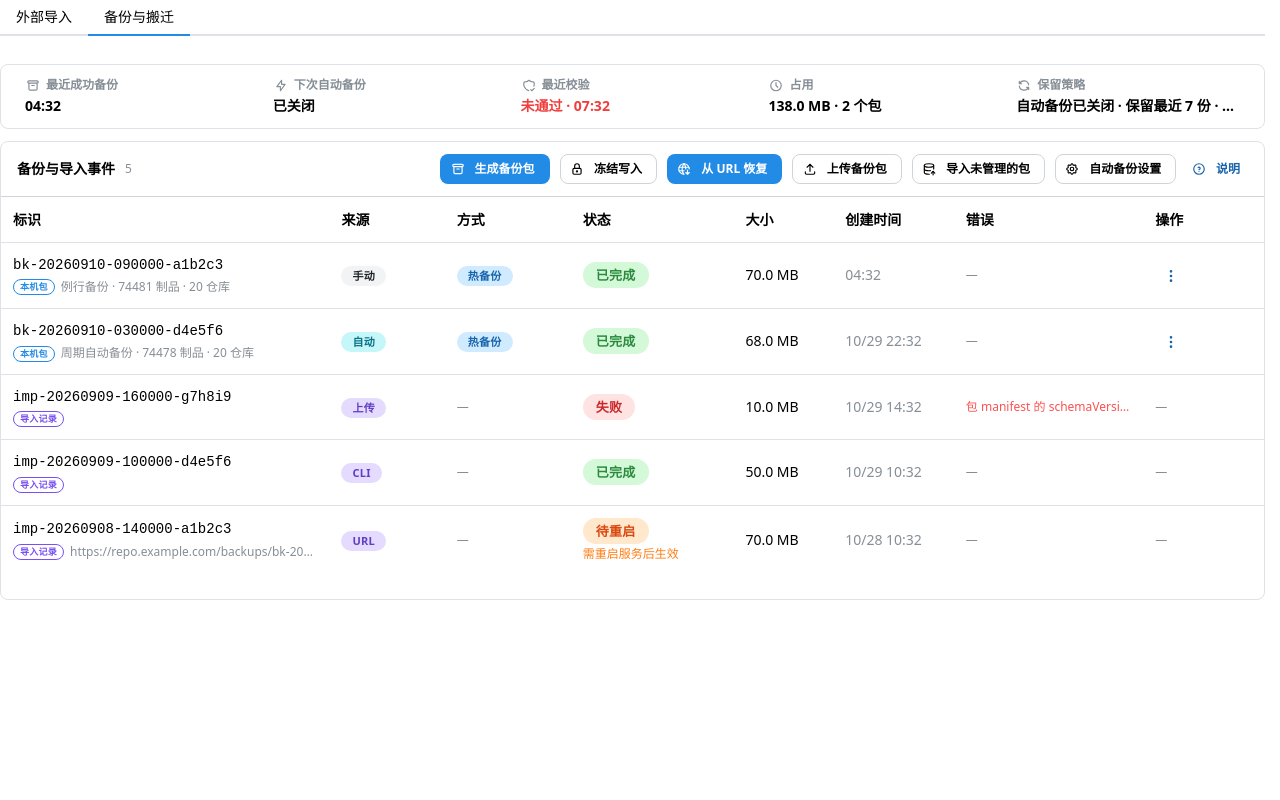
Test case: 备份与搬迁 › 配置弹窗内可编辑三项配置，保存后提交到 settings 通道
Click the button "自动备份设置" at (1116, 169), box x1=1055 y1=154 x2=1176 y2=184
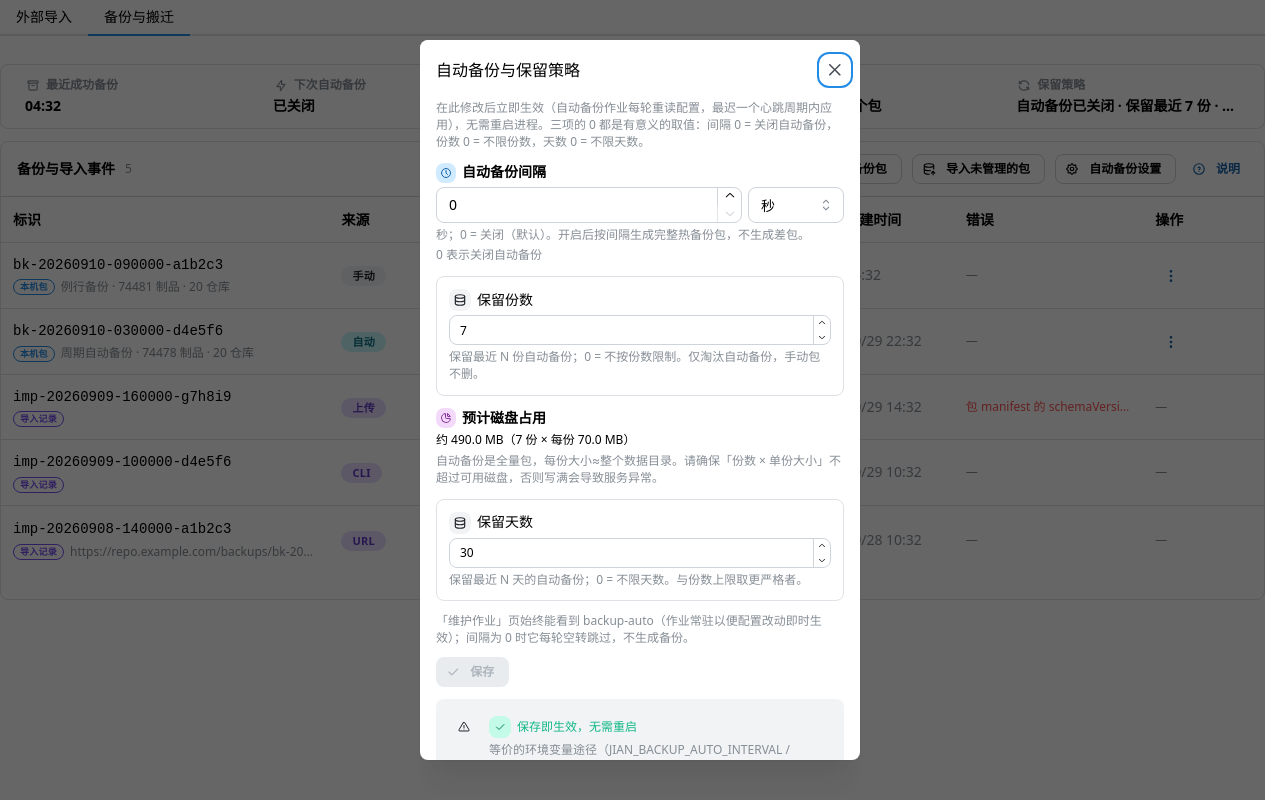
Expected: the field with test id "auto-interval" holds "0"
Expected: the field with test id "keep-last" holds "7", x1=449 y1=315 x2=831 y2=345
Expected: the field with test id "retention-days" holds "30", x1=449 y1=538 x2=831 y2=568
Replace the text in the field with test id "auto-interval" with "60" at (589, 205), box x1=436 y1=187 x2=742 y2=223
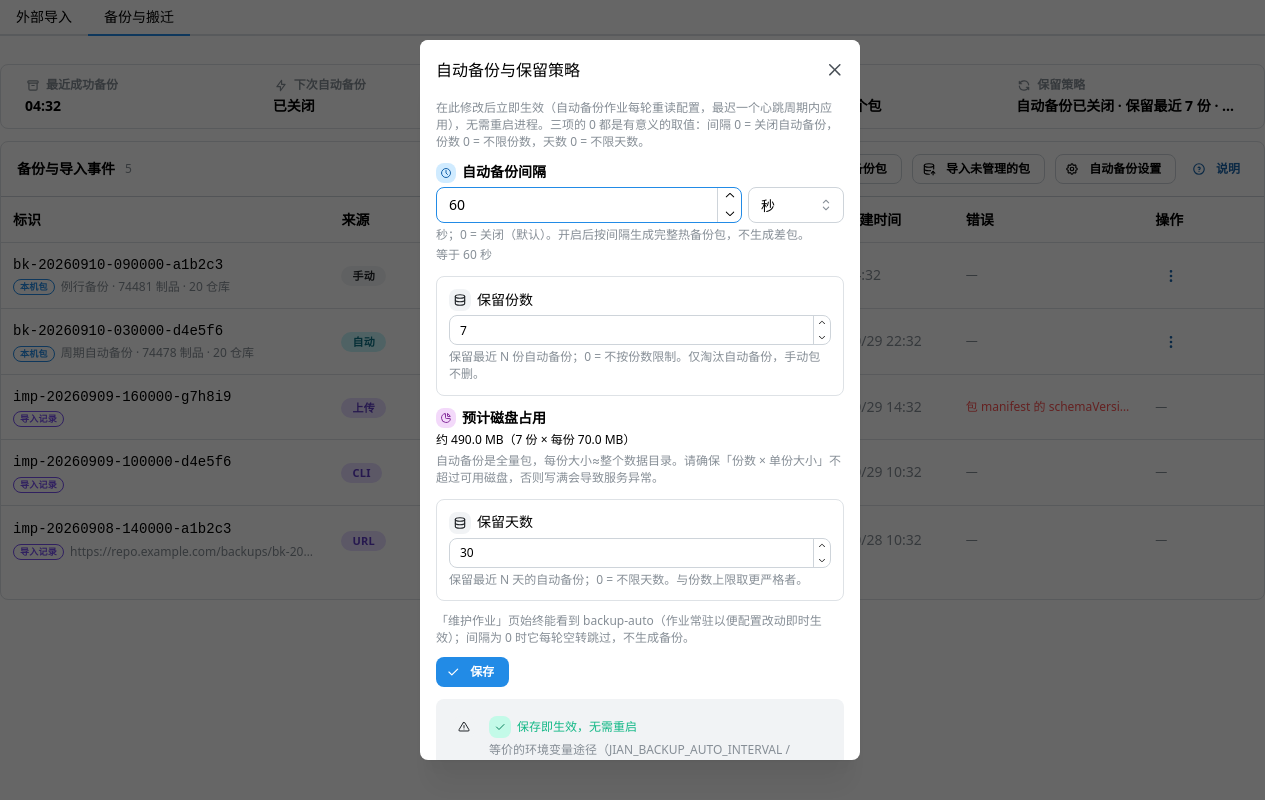
Expected: the button "保存" is enabled
Click the button "保存" at (473, 672), box x1=436 y1=657 x2=509 y2=687
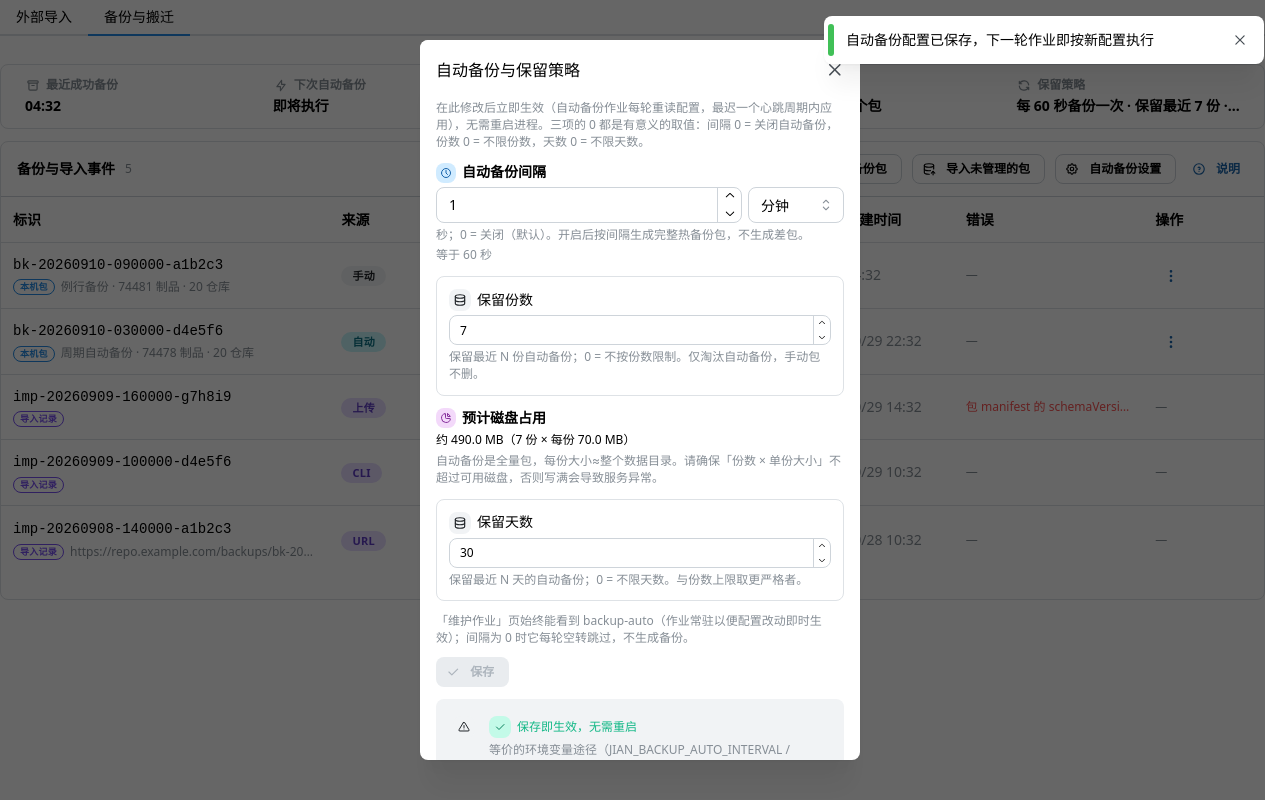
Expected: the text "自动备份配置已保存，下一轮作业即按新配置执行" is shown, x1=846 y1=30 x2=1154 y2=49
Expected: the field with test id "auto-interval" holds "1", x1=436 y1=187 x2=742 y2=223
Expected: the dropdown with test id "auto-interval-unit" holds "分钟", x1=748 y1=187 x2=844 y2=223
